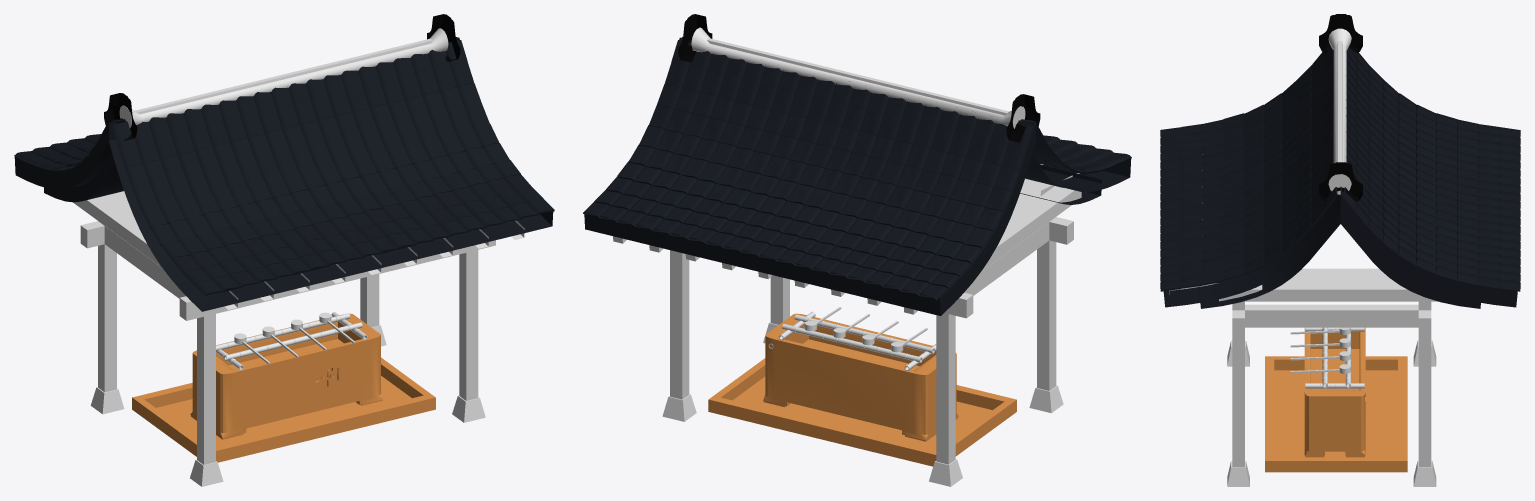
File: chouzuya_free.glb
The picture shows the model from 3 angles, left to right: view 1: azimuth 30°, elevation 25°; view 2: azimuth 150°, elevation 25°; view 3: azimuth 270°, elevation 25°; orthographic projection. The views are drawn at different scales.
Parts seen in each view (by area): view 1: Cylinder.017_Cylinder.034, Cube.010_Cube.005, Cube.002_Cube.019, BezierCurve.001_BezierCurve.006, Cube.003_Cube.020, Cylinder_Cylinder.010, Plane.003_Plane.005, Cube_Cube.015, Cylinder.006_Cylinder.019, Cylinder.005_Cylinder.018, Plane.002_Plane.004, Cylinder.004_Cylinder.020 (+1 smaller); view 2: Cylinder.017_Cylinder.034, BezierCurve.001_BezierCurve.006, Cube.010_Cube.005, Cube.002_Cube.019, Cube.003_Cube.020, Cylinder_Cylinder.010, Plane.003_Plane.005, Cube_Cube.015, Cylinder.006_Cylinder.019, Cylinder.004_Cylinder.020, Plane.002_Plane.004, Plane.001_Plane.002 (+1 smaller); view 3: Cylinder.017_Cylinder.034, BezierCurve.001_BezierCurve.006, Cube.003_Cube.020, Cube.010_Cube.005, Cube.002_Cube.019, Plane.003_Plane.005, Cylinder_Cylinder.010, Cylinder.006_Cylinder.019, Plane.002_Plane.004, Plane.001_Plane.002, Cube_Cube.015.
Boxes of the visible parts, box(x1,y1,x2,y2) form: Cylinder.017_Cylinder.034: box(14, 37, 554, 296); Cube.010_Cube.005: box(80, 220, 524, 486); Cube.002_Cube.019: box(190, 313, 382, 439); BezierCurve.001_BezierCurve.006: box(14, 37, 553, 311); Cube.003_Cube.020: box(132, 357, 435, 462); Cylinder_Cylinder.010: box(119, 28, 448, 127); Plane.003_Plane.005: box(73, 191, 161, 267); Cube_Cube.015: box(135, 38, 432, 114); Cylinder.006_Cylinder.019: box(234, 312, 355, 364); Cylinder.005_Cylinder.018: box(224, 322, 362, 360); Plane.002_Plane.004: box(104, 93, 137, 140); Cylinder.004_Cylinder.020: box(216, 313, 350, 351); Cylinder.017_Cylinder.034: box(583, 36, 1131, 300); BezierCurve.001_BezierCurve.006: box(584, 37, 1131, 315); Cube.010_Cube.005: box(613, 164, 1079, 486); Cube.002_Cube.019: box(763, 313, 958, 441); Cube.003_Cube.020: box(708, 358, 1016, 466); Cylinder_Cylinder.010: box(691, 27, 1025, 128); Plane.003_Plane.005: box(982, 178, 1081, 270); Cube_Cube.015: box(707, 38, 1009, 115); Cylinder.006_Cylinder.019: box(804, 307, 927, 352); Cylinder.004_Cylinder.020: box(782, 324, 922, 362); Plane.002_Plane.004: box(1006, 94, 1040, 142); Plane.001_Plane.002: box(678, 14, 712, 62); Cylinder.017_Cylinder.034: box(1160, 44, 1520, 291); BezierCurve.001_BezierCurve.006: box(1163, 91, 1517, 308); Cube.003_Cube.020: box(1265, 356, 1407, 472); Cube.010_Cube.005: box(1169, 154, 1436, 486); Cube.002_Cube.019: box(1304, 327, 1365, 457); Plane.003_Plane.005: box(1219, 268, 1437, 301); Cylinder_Cylinder.010: box(1328, 28, 1351, 194); Cylinder.006_Cylinder.019: box(1290, 327, 1350, 373); Plane.002_Plane.004: box(1319, 14, 1362, 53); Plane.001_Plane.002: box(1319, 162, 1362, 201); Cube_Cube.015: box(1337, 40, 1342, 162).
Size of the model in its own units: 5.18 by 4.98 by 4.91.
